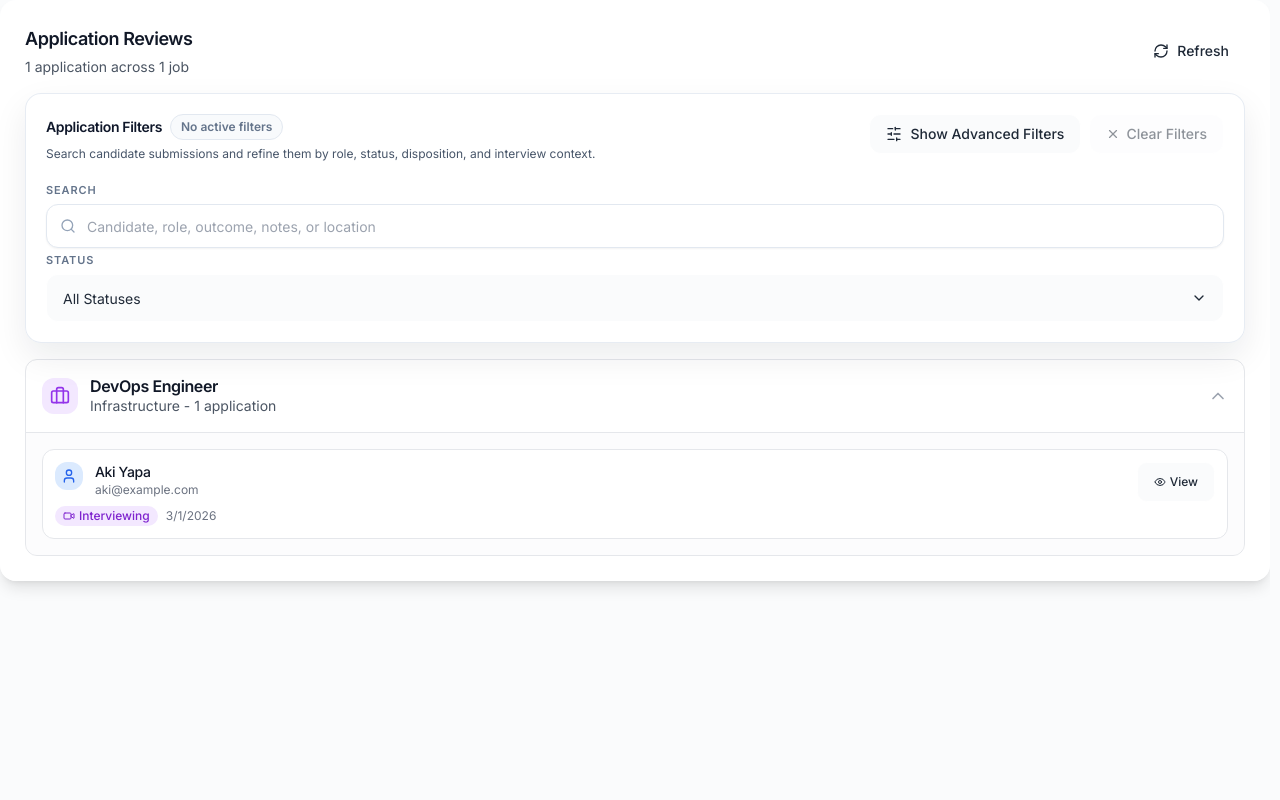
Test: ApplicationsManager role experience › keeps reviewers read-only but lets them open the linked interview workspace
Expected: the heading "Application Reviews" is shown, [25,25,192,53]
Step 1. Click the button "View" → {"x": 1176, "y": 482}, box [1137,462,1215,502]
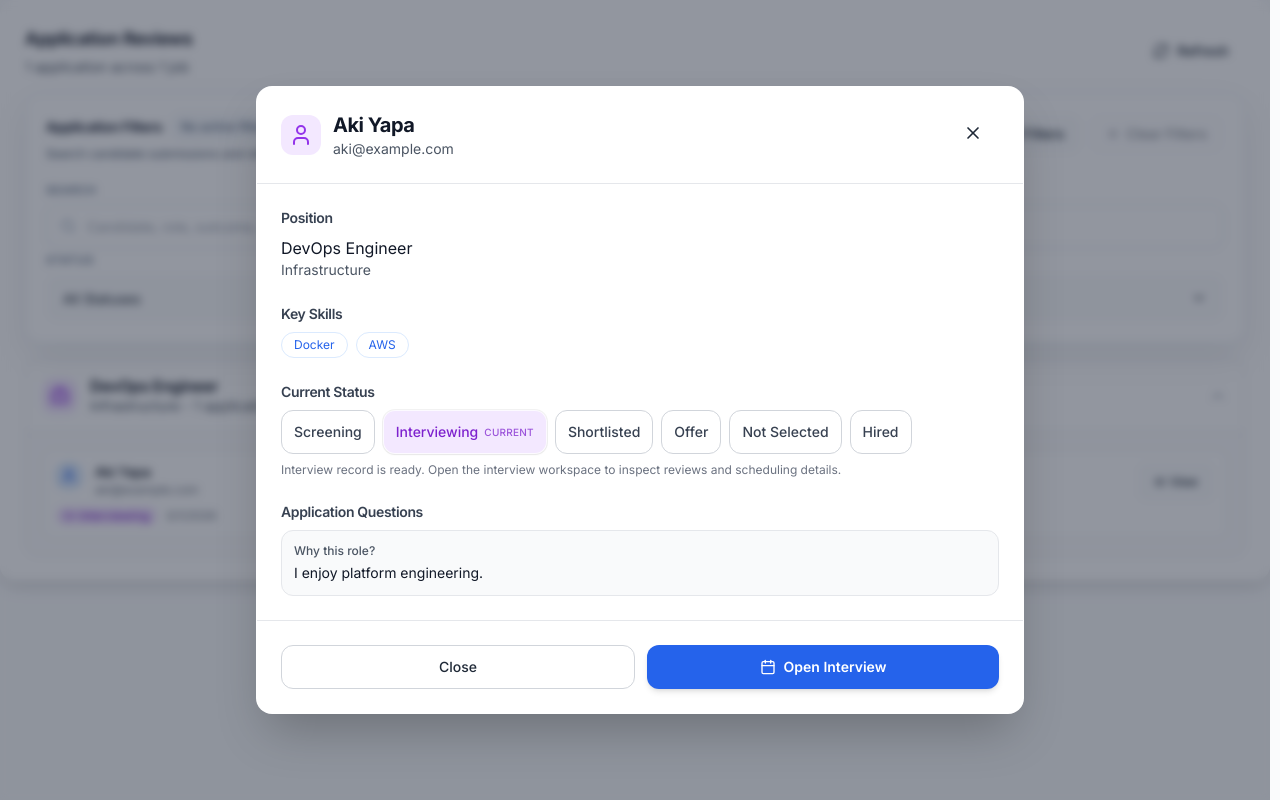
Result: the heading "Current Status" is shown at [281,383,375,400]
Result: the button "Open Interview" is shown at [647,645,999,689]
Result: the text "inspect reviews and scheduling details" is shown at [281,462,841,477]
